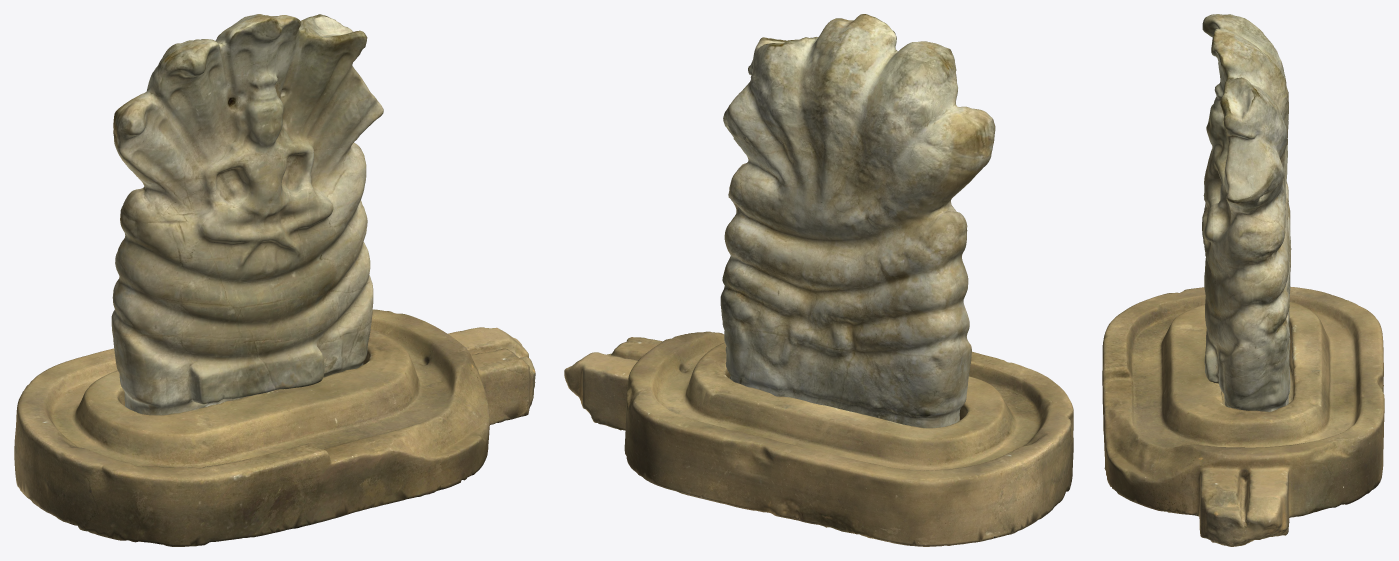
File: MysonMuseum_warehousetuonglinga_final.glb
The picture shows the model from 3 angles, left to right: view 1: azimuth 30°, elevation 25°; view 2: azimuth 150°, elevation 25°; view 3: azimuth 270°, elevation 25°; orthographic projection. The views are drawn at different scales.
Size of the model in its own units: 1.08 by 0.9503 by 0.6105.
Materials: 2 (2 with a texture image).
